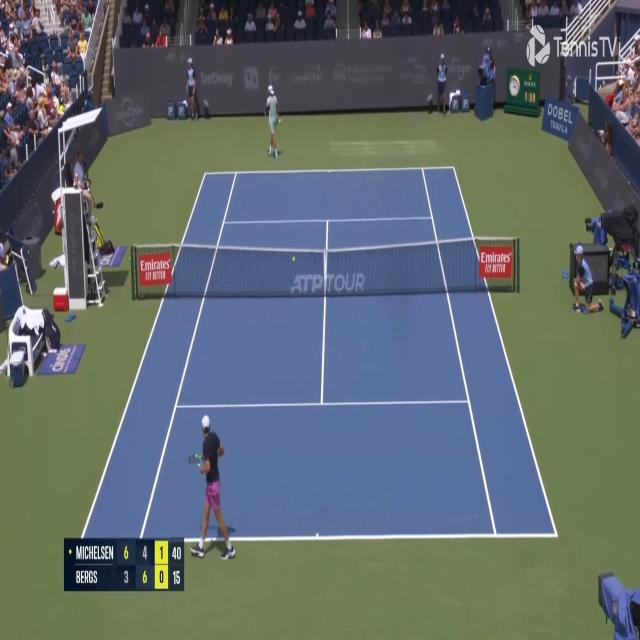tennis-player: (186, 412, 238, 566), (264, 84, 282, 160)
